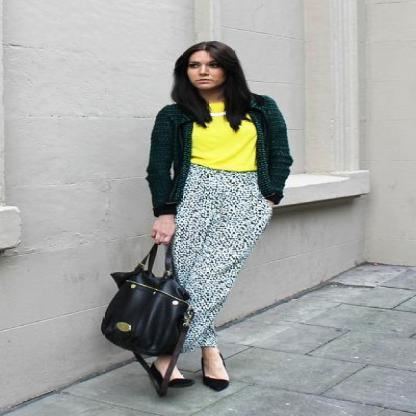bag: (101, 235, 201, 356)
jacket: (146, 94, 292, 216)
pants: (152, 164, 278, 357)
shirt: (190, 101, 256, 171)
shoe: (202, 374, 228, 391)
